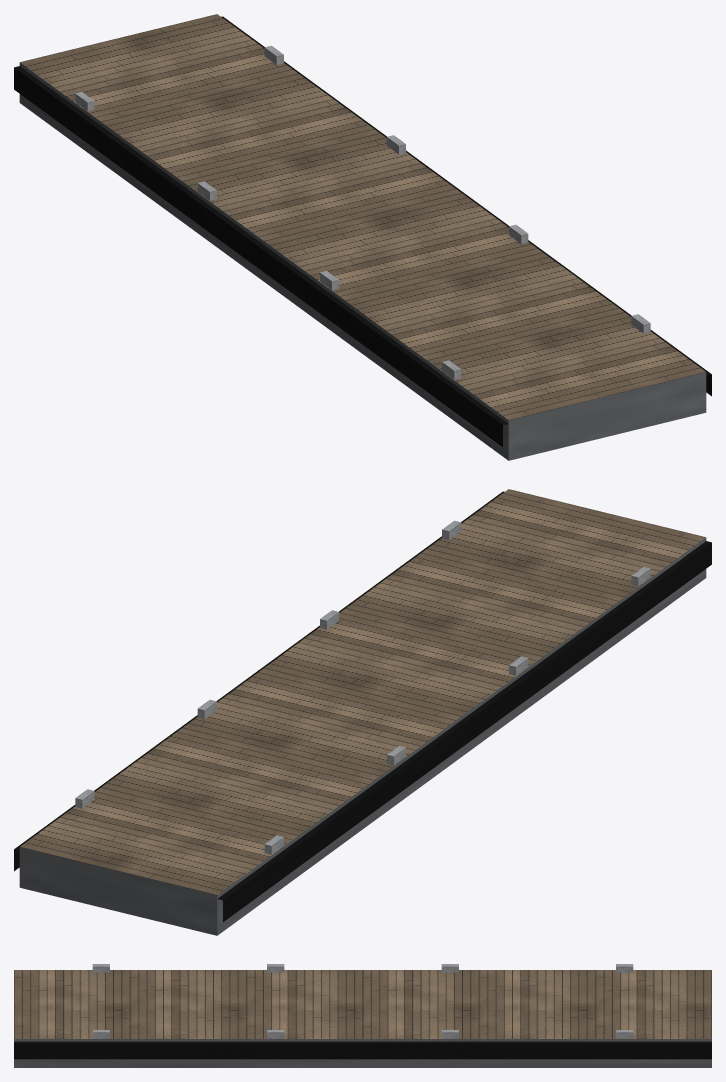
File: SM_Morin_Marina_Pontile12_LOD1.fbx
3 renders of one model, top to bottom at view 1: azimuth 30°, elevation 25°; view 2: azimuth 150°, elevation 25°; view 3: azimuth 270°, elevation 25°, orthographic. The views are drawn at different scales.
Parts seen in each view (by area): view 1: SM_Morin_Marina_Pontile12_LOD1; view 2: SM_Morin_Marina_Pontile12_LOD1; view 3: SM_Morin_Marina_Pontile12_LOD1.
Boxes of the visible parts, left/top/right/bottom form: SM_Morin_Marina_Pontile12_LOD1: left=14, top=14, right=711, bottom=460; SM_Morin_Marina_Pontile12_LOD1: left=14, top=489, right=711, bottom=935; SM_Morin_Marina_Pontile12_LOD1: left=14, top=964, right=711, bottom=1067.
Size of the model in its own units: 296 by 1200 by 67.
Materials: 2 (2 with a texture image).
